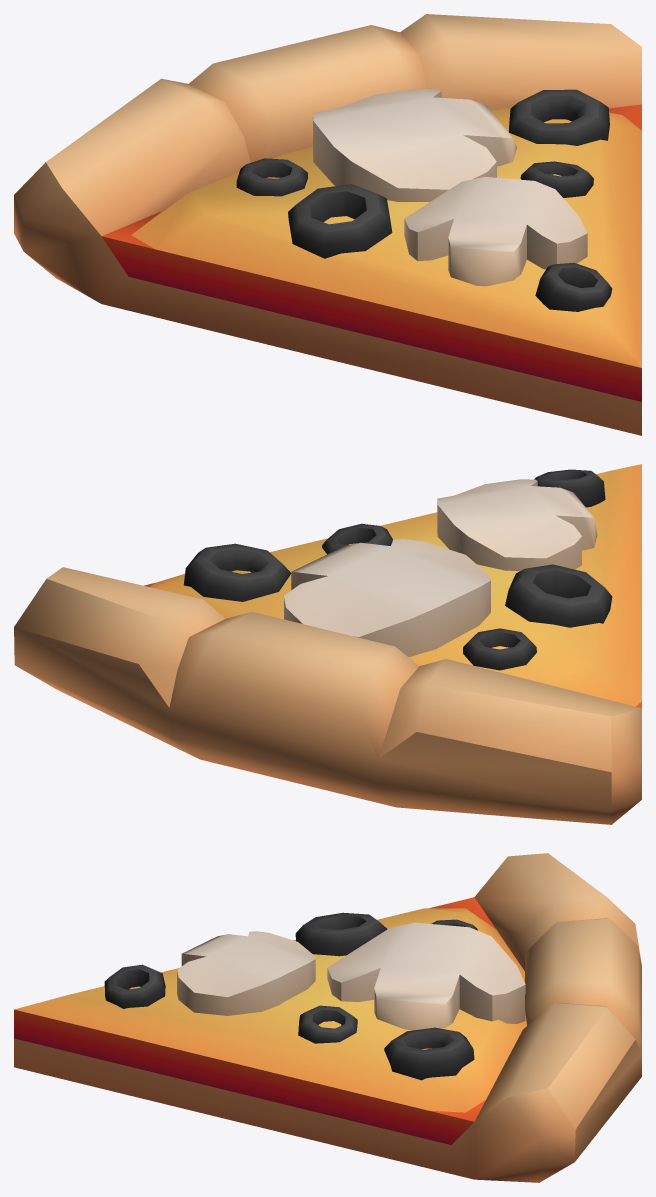
The model's file is food_pizza_mushroom_slice.obj.
The picture shows the model from 3 angles, top to bottom: view 1: azimuth 30°, elevation 25°; view 2: azimuth 150°, elevation 25°; view 3: azimuth 270°, elevation 25°; orthographic projection. The views are drawn at different scales.
Parts seen in each view (by area): view 1: food_pizza_mushroom_slice_Cylinder.209; view 2: food_pizza_mushroom_slice_Cylinder.209; view 3: food_pizza_mushroom_slice_Cylinder.209.
Part boxes in pixels (x1,y1,x2,y2): food_pizza_mushroom_slice_Cylinder.209: [14, 14, 641, 435]; food_pizza_mushroom_slice_Cylinder.209: [14, 464, 641, 824]; food_pizza_mushroom_slice_Cylinder.209: [14, 853, 641, 1182].
Bounding box in the file's own units: 0.9542 × 0.2 × 0.9848.
Materials: 1 (1 with a texture image).
